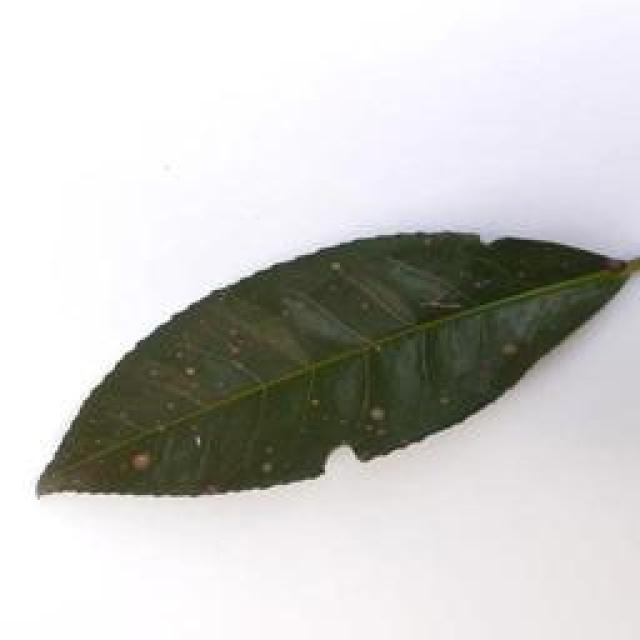Algal Leaf Spot: (30, 220, 640, 507)
